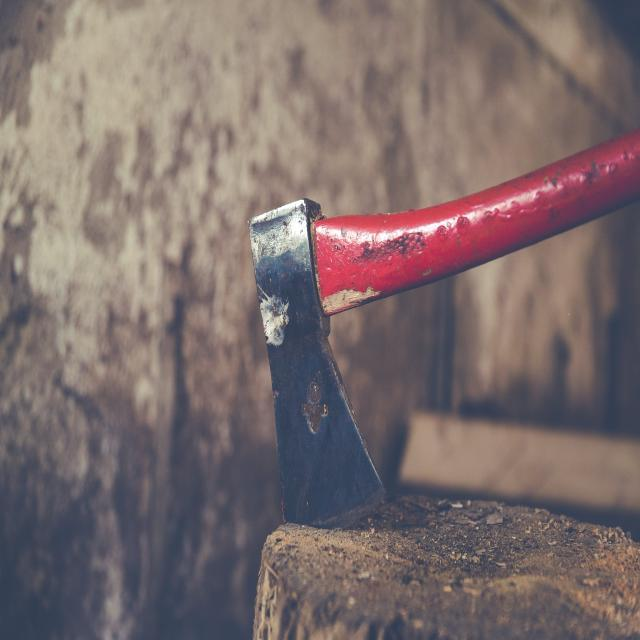Axe: (250, 131, 640, 526)
